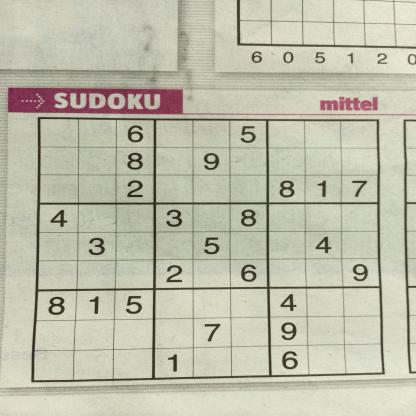sudoku: (28, 114, 388, 386)
